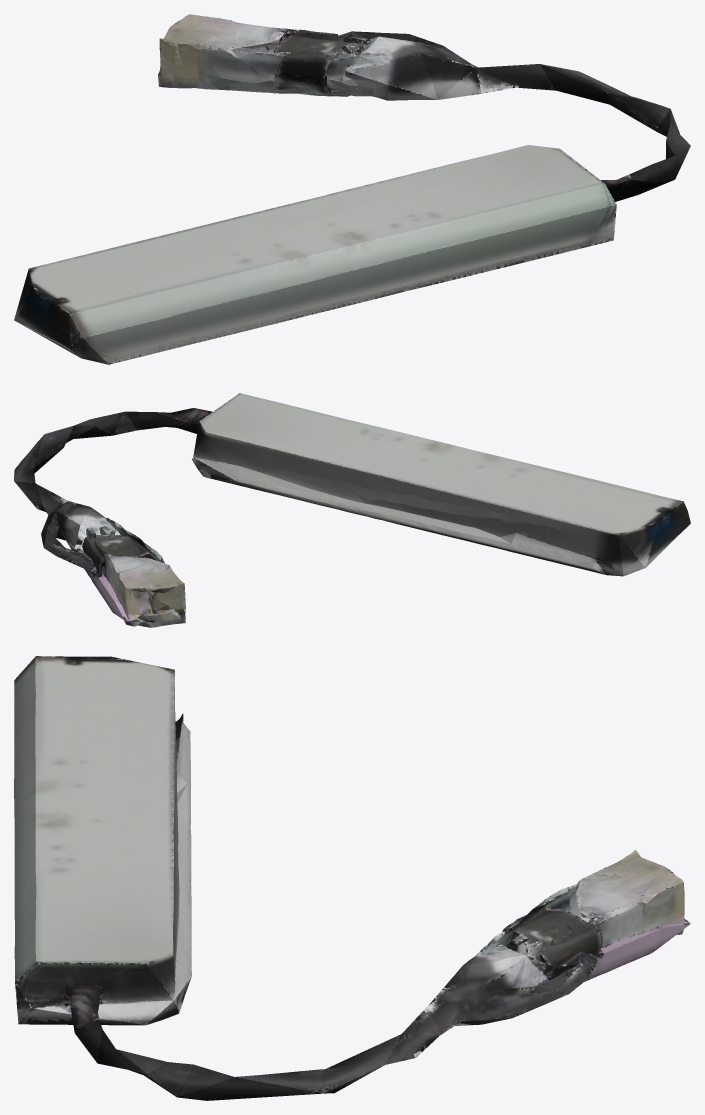
3 renders of one model, top to bottom at view 1: azimuth 30°, elevation 25°; view 2: azimuth 150°, elevation 25°; view 3: azimuth 270°, elevation 25°, orthographic. The views are drawn at different scales.
Visible parts, largest first — view 1: visual_mesh; view 2: visual_mesh; view 3: visual_mesh.
Part boxes in pixels (x1,y1,x2,y2): visual_mesh: (14,14,690,364); visual_mesh: (14,393,690,627); visual_mesh: (14,656,690,1100).
Size of the model in its own units: 0.251 by 0.0195 by 0.1817.
1 material, 1 textured.
